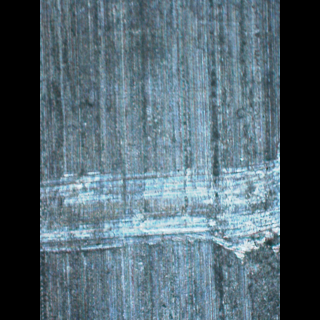d: (40, 149, 279, 267)
